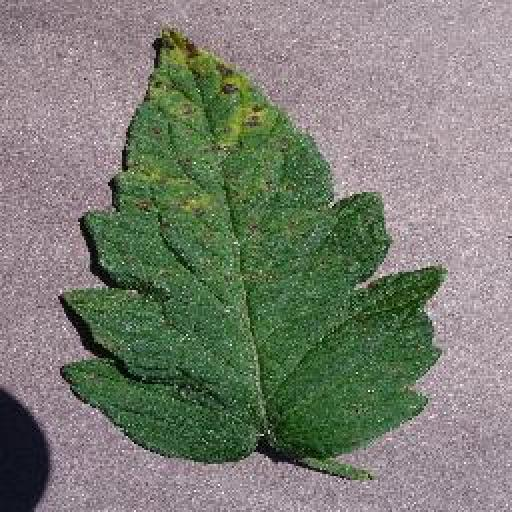disease_tomato: (59, 22, 448, 464)
